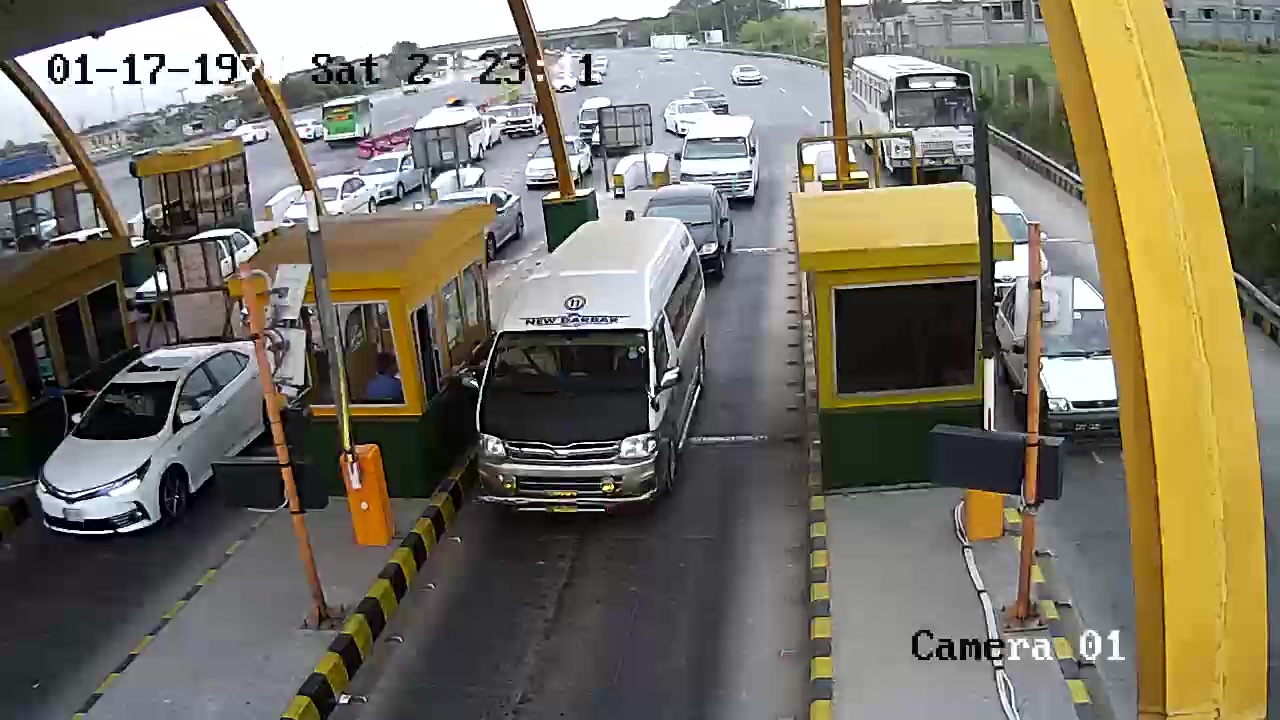F3: (477, 211, 711, 532)
